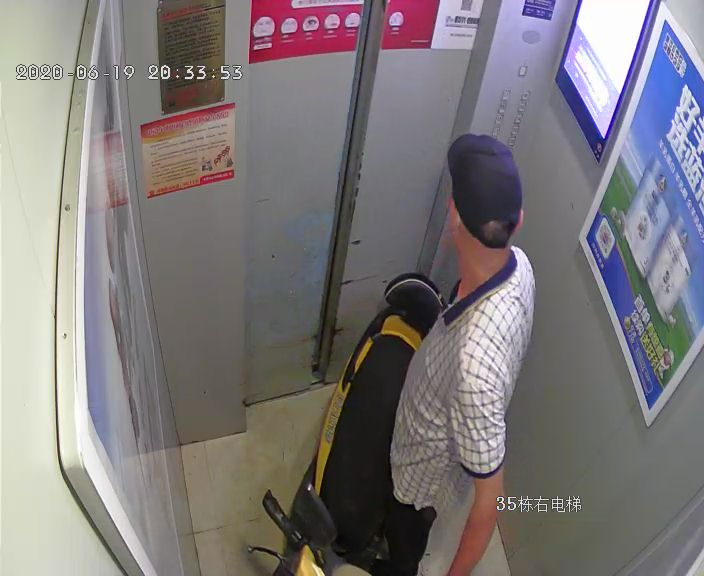Electric-bicycle: (241, 275, 444, 572)
